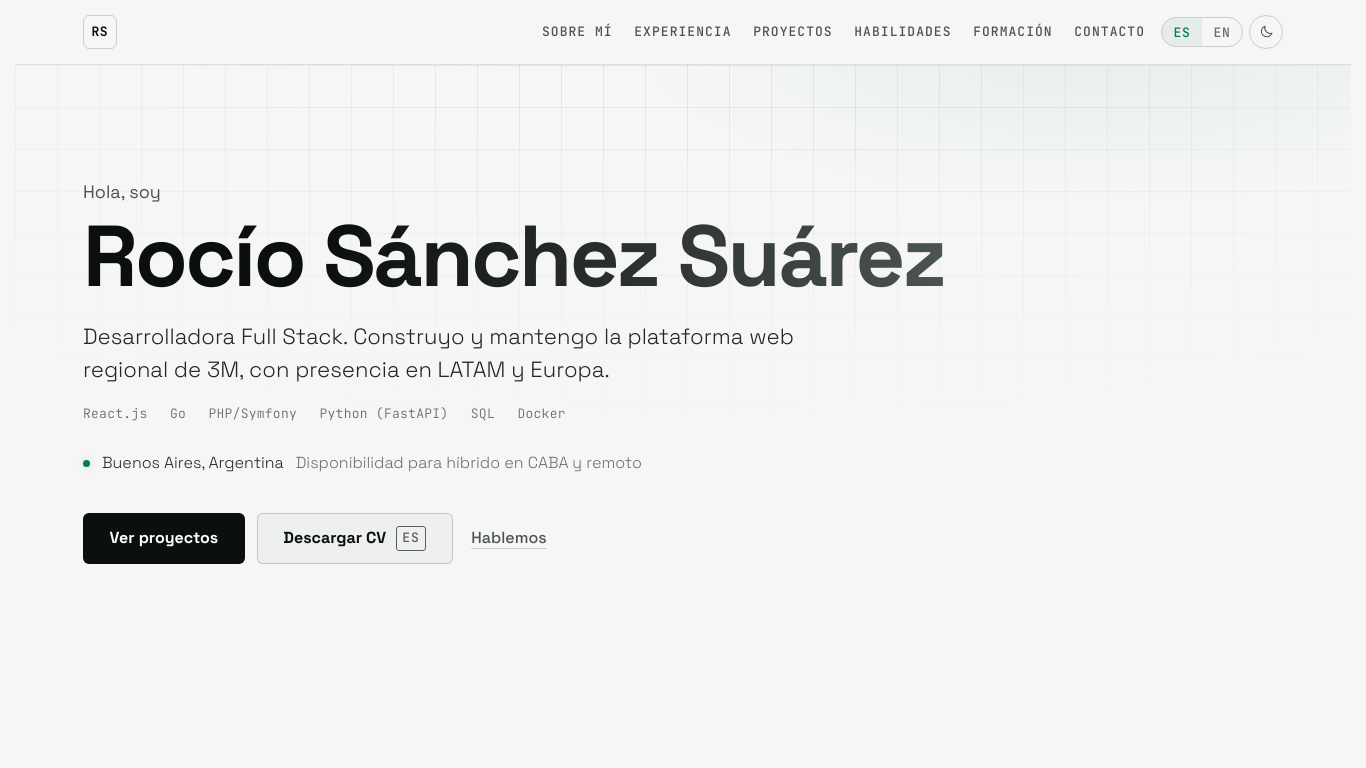
Test: <App /> › switches the whole page to English and back
This screenshot has width=1366, height=768.
Click the button "EN" at (1222, 32), box x1=1202 y1=18 x2=1242 y2=46
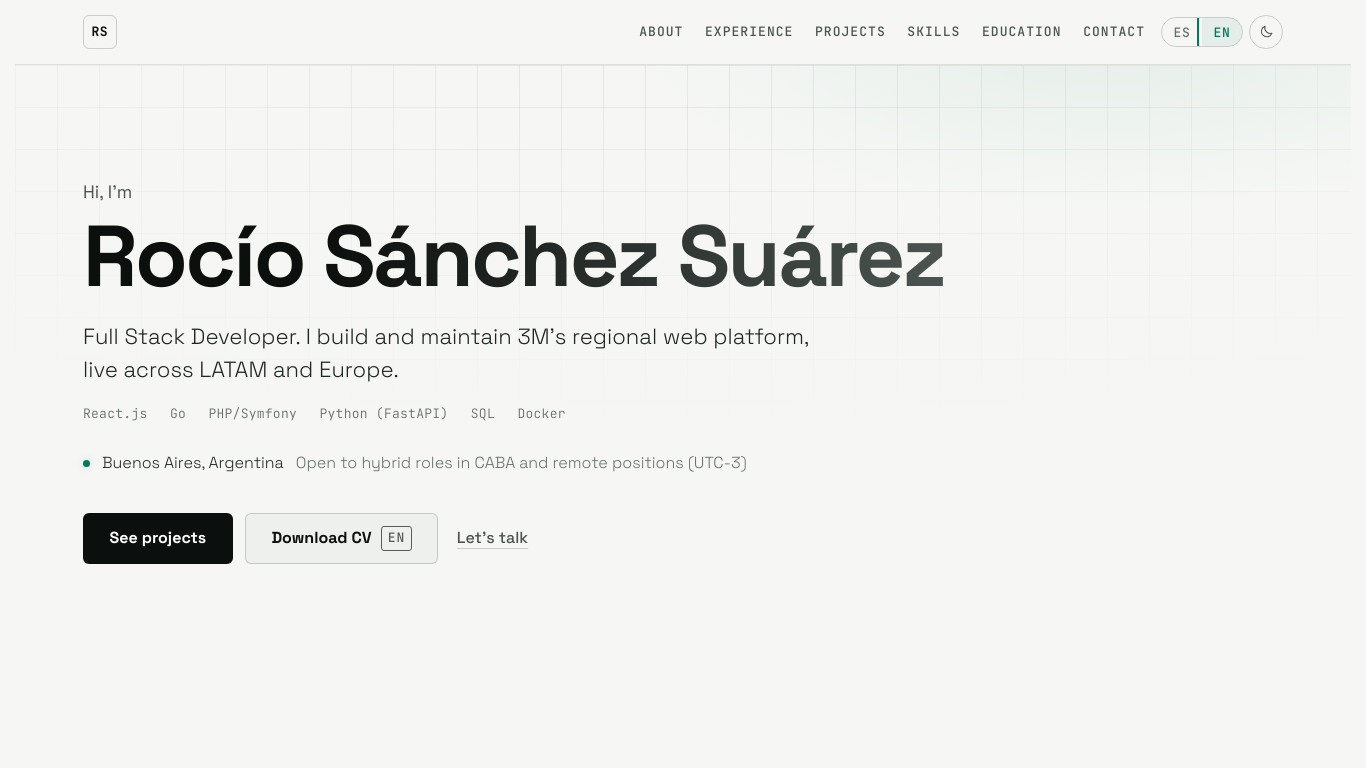
Check: the text "Full Stack Developer" is shown, box x1=83 y1=322 x2=808 y2=383
Check: the navigation bar named "Main navigation" is shown, box x1=639 y1=23 x2=1145 y2=40
Click the button "ES" at (1182, 32), box x1=1162 y1=18 x2=1202 y2=46
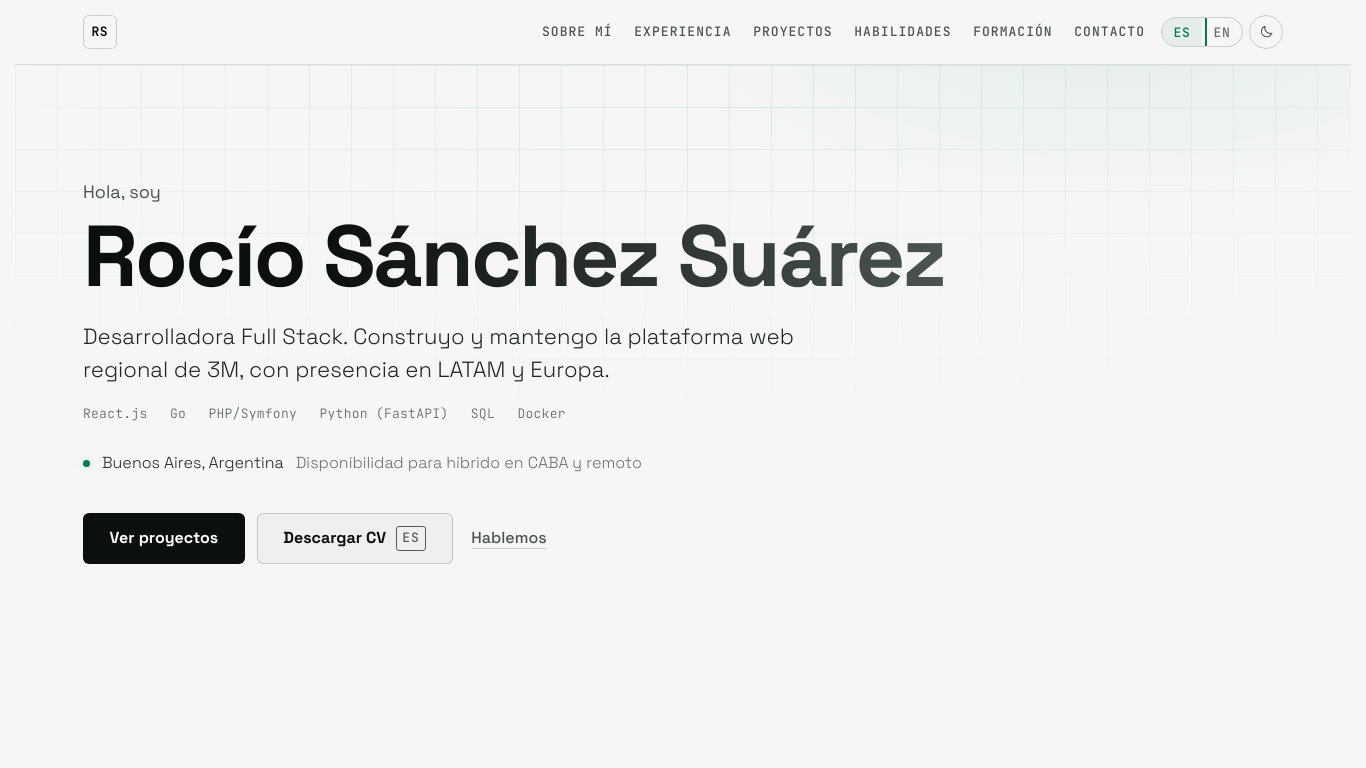
Check: the text "Desarrolladora Full Stack" is shown, box x1=83 y1=322 x2=794 y2=383
